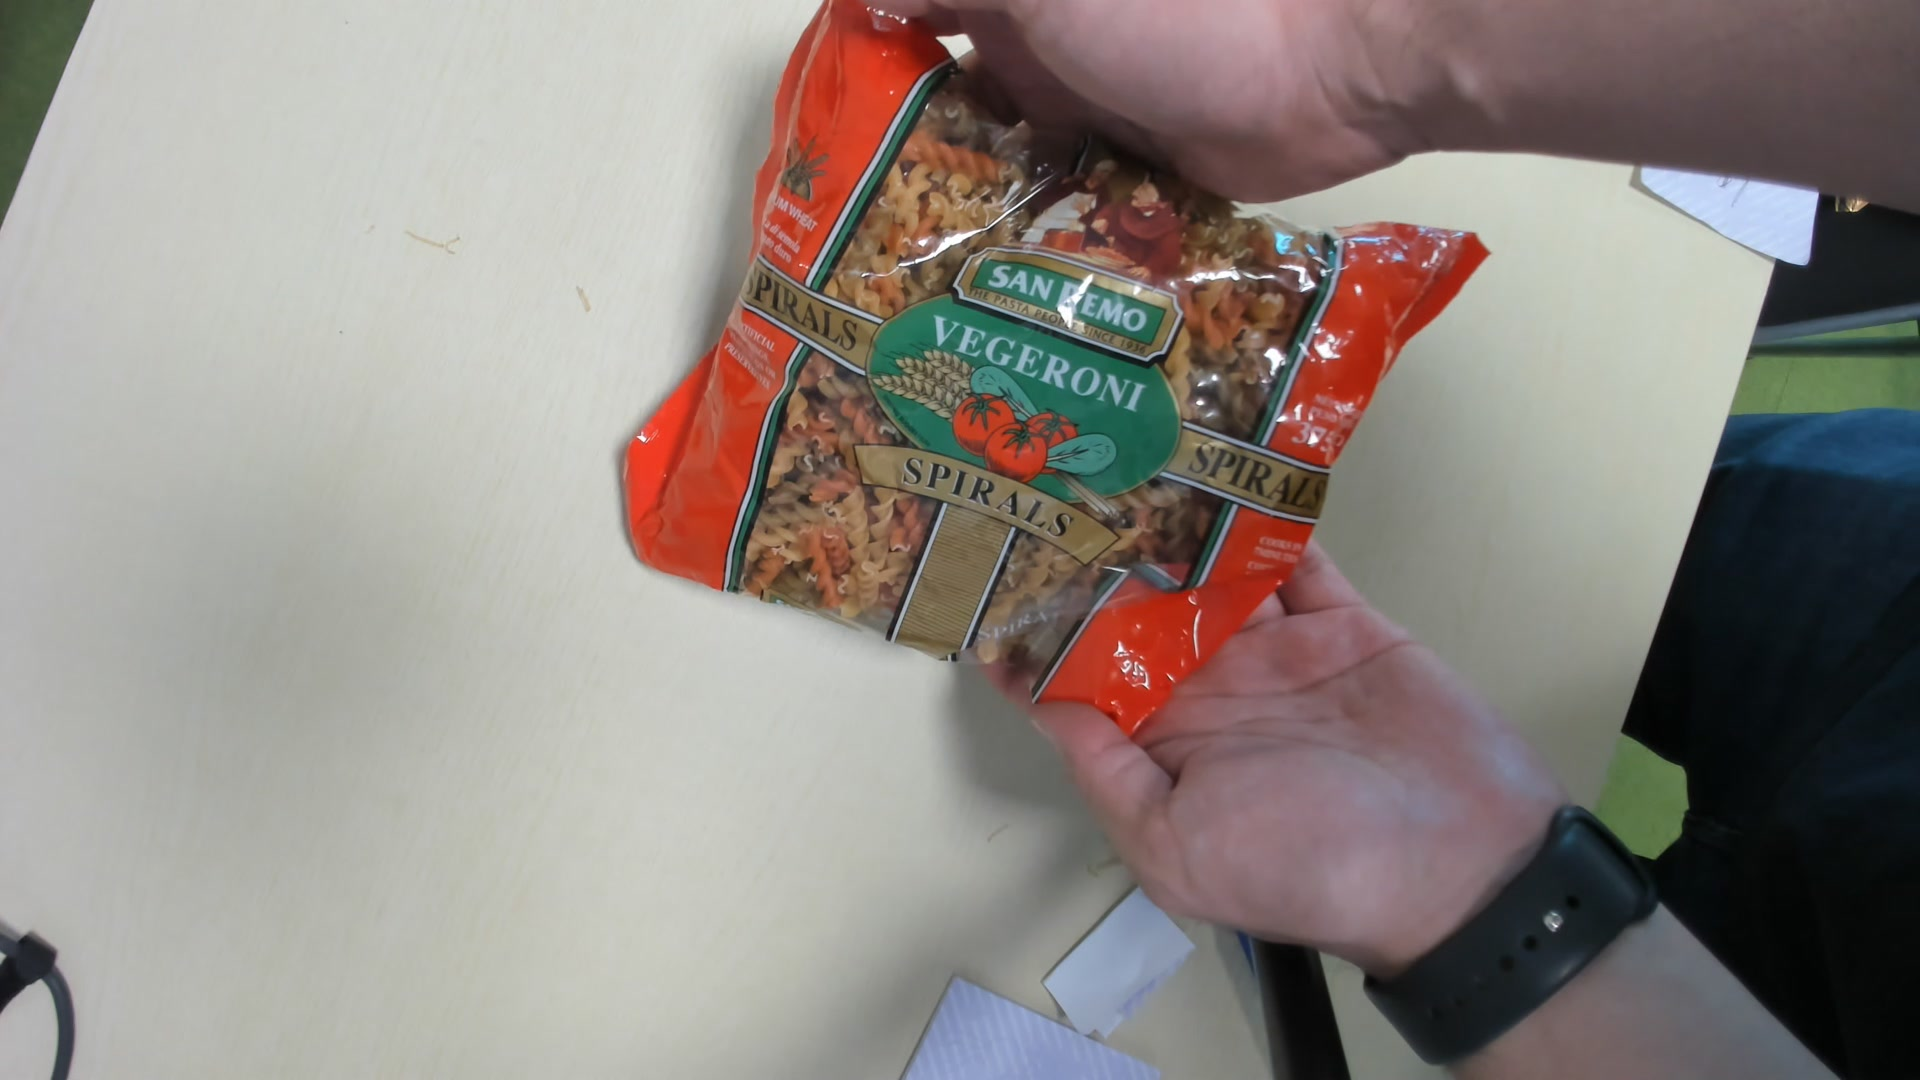Pasta_400-499g_Halal_NonHealthy: (626, 8, 1477, 749)
